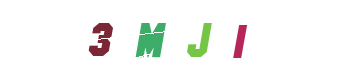3: (110, 0, 190, 80)
I: (153, 0, 233, 80)
J: (130, 0, 210, 80)
M: (112, 0, 192, 80)
